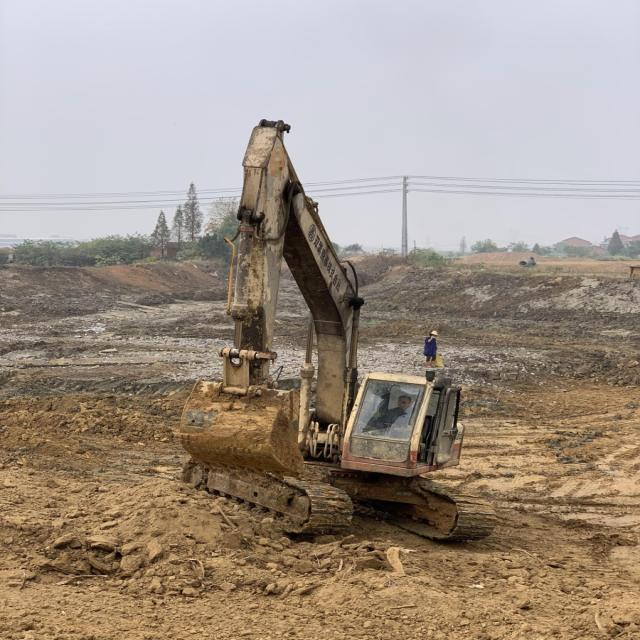excavator: (179, 119, 497, 542)
